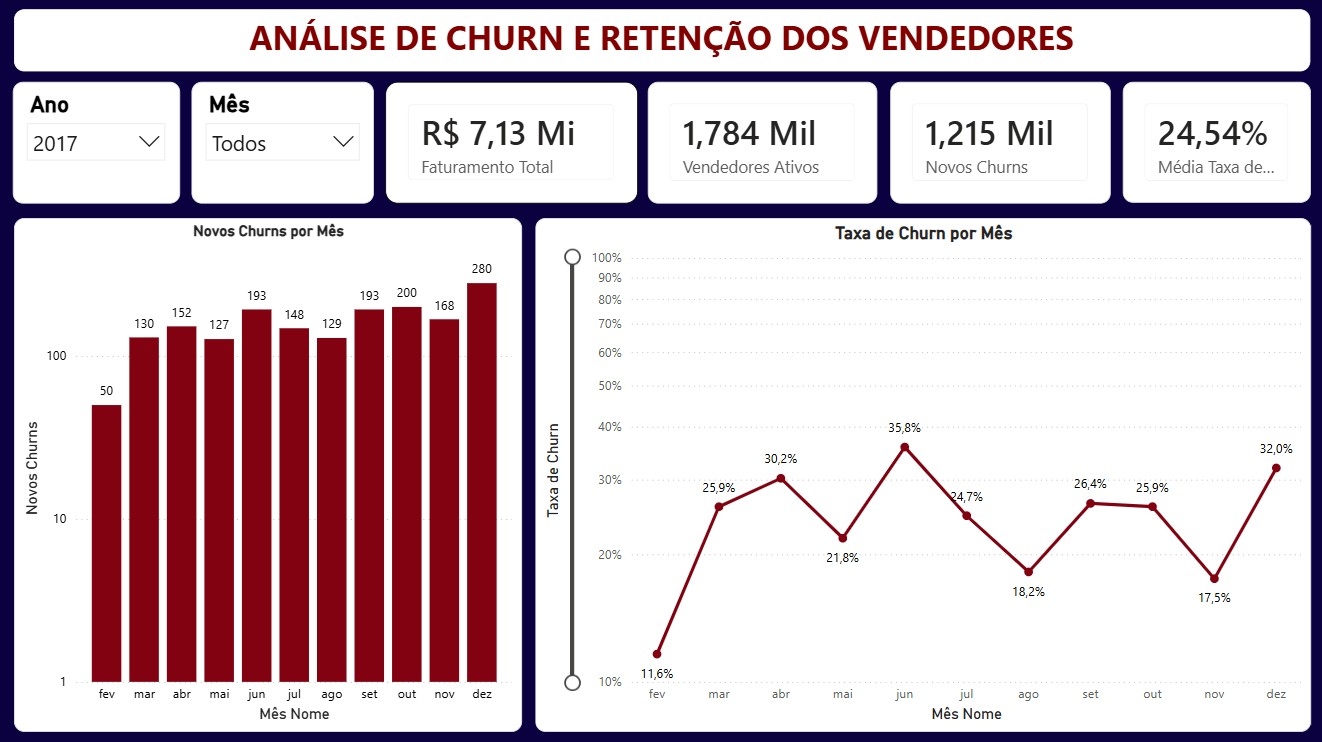

The dashboard page shown, as its layout file describes it:
{"tool":"powerbi","page":{"name":"Página 1","canvas":[1280,720],"ordinal":0},"visuals":[{"type":"cardVisual","fields":{"Data":["dCalendario.Faturamento Total"]},"box":[372.5,81.2,243.8,117.5],"z":0},{"type":"cardVisual","fields":{"Data":["dCalendario.Vendedores Ativos"]},"box":[626.2,81.2,221.2,117.5],"z":1000},{"type":"cardVisual","fields":{"Data":["dCalendario.Novos Churns"]},"box":[860,81.2,212.5,117.5],"z":2000},{"type":"cardVisual","fields":{"Data":["dCalendario.Média Taxa de Churn"]},"box":[1084.3,81.4,181.4,117.1],"z":3000},{"type":"slicer","fields":{"Values":["dCalendario.Ano"]},"box":[13.8,81.2,161.2,117.5],"z":4000},{"type":"slicer","fields":{"Values":["dCalendario.Mês Nome"]},"box":[186.2,81.2,176.2,117.5],"z":5000},{"type":"lineChart","title":"Taxa de Churn por Mês","fields":{"Y":["dCalendario.Taxa de Churn"],"Category":["dCalendario.Mês Nome"]},"box":[517.1,212.9,748.6,495.7],"z":6000},{"type":"clusteredColumnChart","title":"Novos Churns por Mês","fields":{"Category":["dCalendario.Mês Nome"],"Y":["dCalendario.Novos Churns"]},"box":[14.3,212.9,490,495.7],"z":7000},{"type":"shape","box":[14.3,11.4,1251.4,60],"z":8000},{"type":"textbox","box":[24.1,10.9,1230.6,60.3],"z":9000}]}

Visuals, with their boxes in screenshot pixels (x1, y1, x2, y2), scaled from the page's 1280x720 canvas onto the 1322x742 screenshot:
cardVisual - dCalendario.Faturamento Total: 385:84:637:205
cardVisual - dCalendario.Vendedores Ativos: 647:84:875:205
cardVisual - dCalendario.Novos Churns: 888:84:1108:205
cardVisual - dCalendario.Média Taxa de Churn: 1120:84:1307:205
slicer - dCalendario.Ano: 14:84:181:205
slicer - dCalendario.Mês Nome: 192:84:374:205
"Taxa de Churn por Mês" lineChart: 534:219:1307:730
"Novos Churns por Mês" clusteredColumnChart: 15:219:521:730
shape: 15:12:1307:74
textbox: 25:11:1296:73
